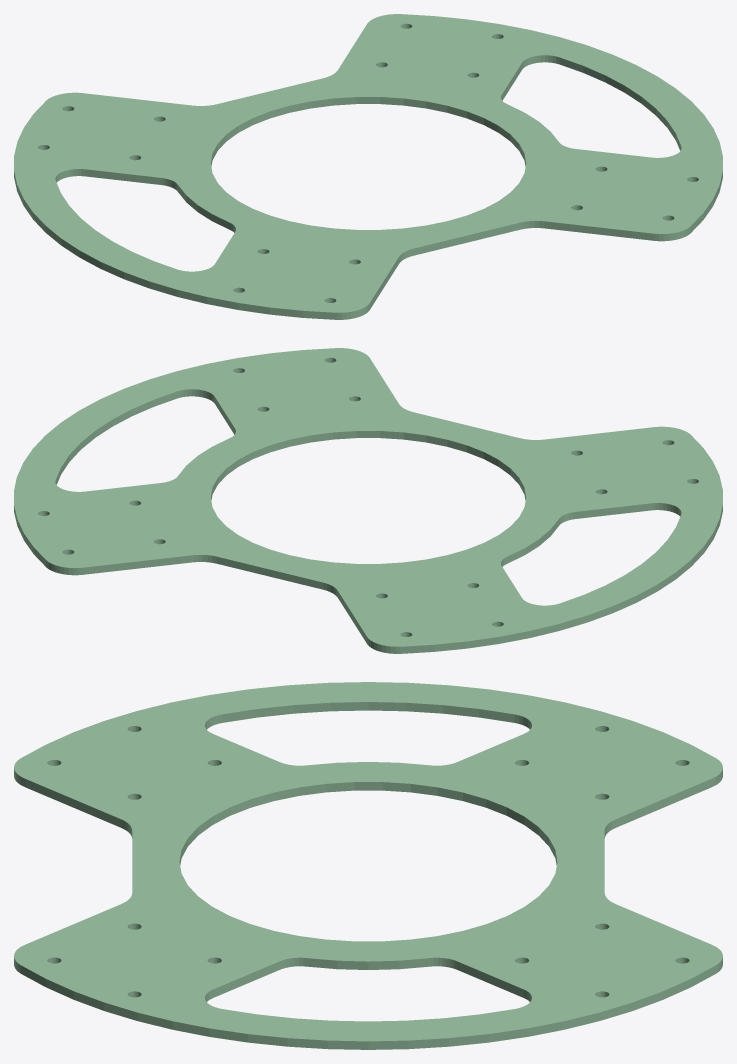
Rendered from case-05_lib00008.glb.
The picture shows the model from 3 angles, top to bottom: view 1: azimuth 30°, elevation 25°; view 2: azimuth 150°, elevation 25°; view 3: azimuth 270°, elevation 25°; orthographic projection. The views are drawn at different scales.
Parts seen in each view (by area): view 1: lib00008; view 2: lib00008; view 3: lib00008.
Boxes of the visible parts, left/top/right/bottom form: lib00008: left=14, top=14, right=722, bottom=319; lib00008: left=14, top=348, right=722, bottom=653; lib00008: left=14, top=682, right=722, bottom=1049.
Bounding box in the file's own units: 78 × 0.8667 × 65.03.
